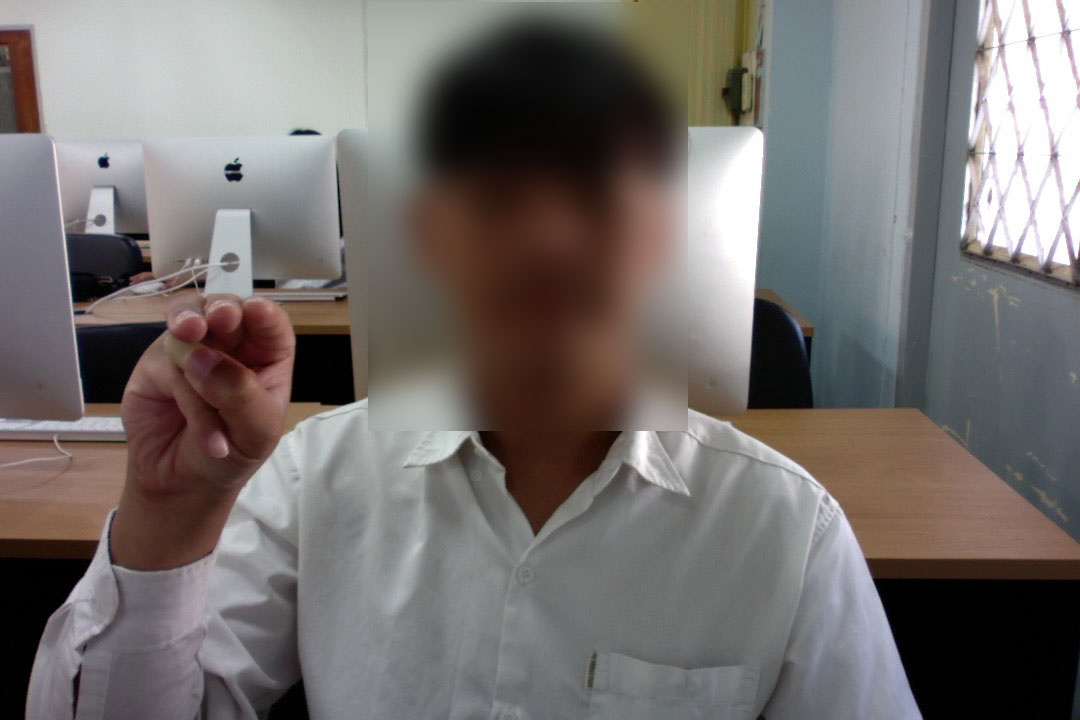mor: (109, 281, 300, 499)
